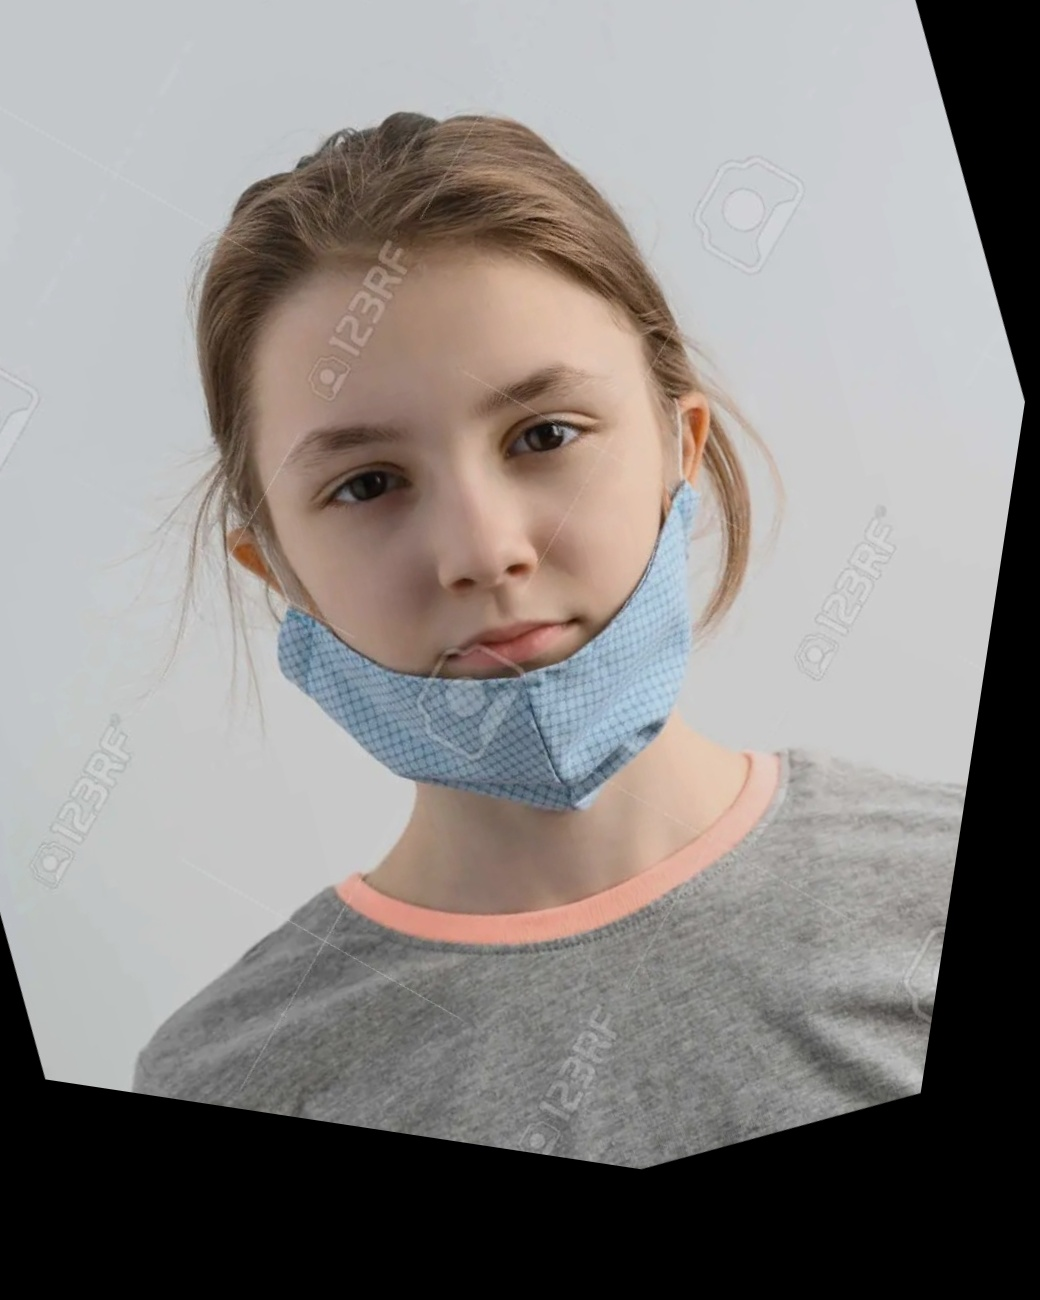mask_weared_incorrect: (251, 187, 694, 813)
